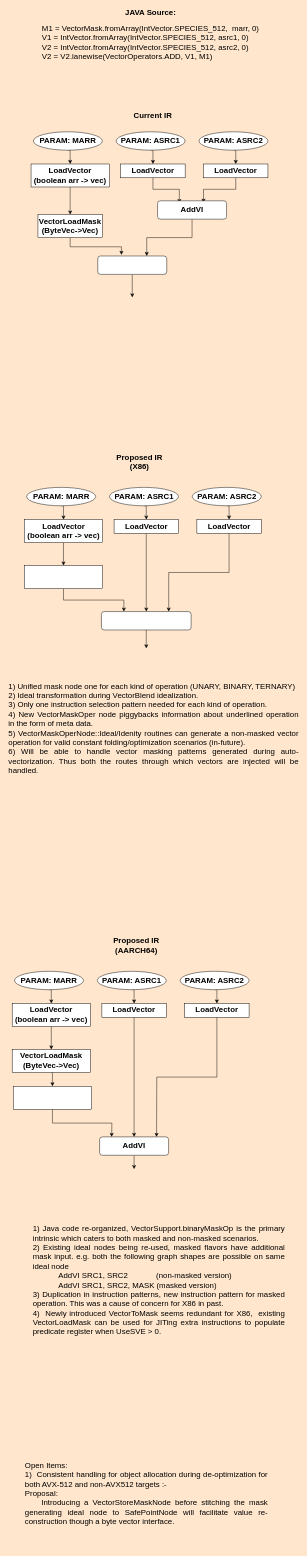
Image size: 307x1556. Some labels were removed from this diagram. The shapes that lost their labels are listed below. From the top down, each one's box as (x1, y1, x2, y2) in pixels, then its label:
(97, 256, 167, 274): VectorBlend
(24, 565, 103, 589): VectorLoadMask (ByteVec->Opmask)
(101, 611, 191, 630): VectorMaskedOperNode (Meta_Data-> AddVI)
(13, 1086, 92, 1109): VectorToMask (Vec->MaskVec)
